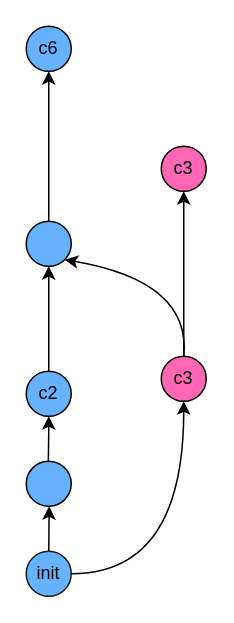
The diagram is 234 pixels wide and 623 high, and some of its shapes have lost their labels. The shapes that lost their labels are listed below. From the top down, each one's centre as x and y in pixels, then its label:
the point at 48,243: c4
the point at 48,483: c1
